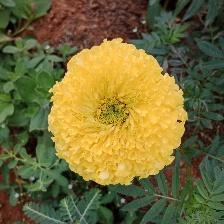marigold: (49, 38, 190, 188)
